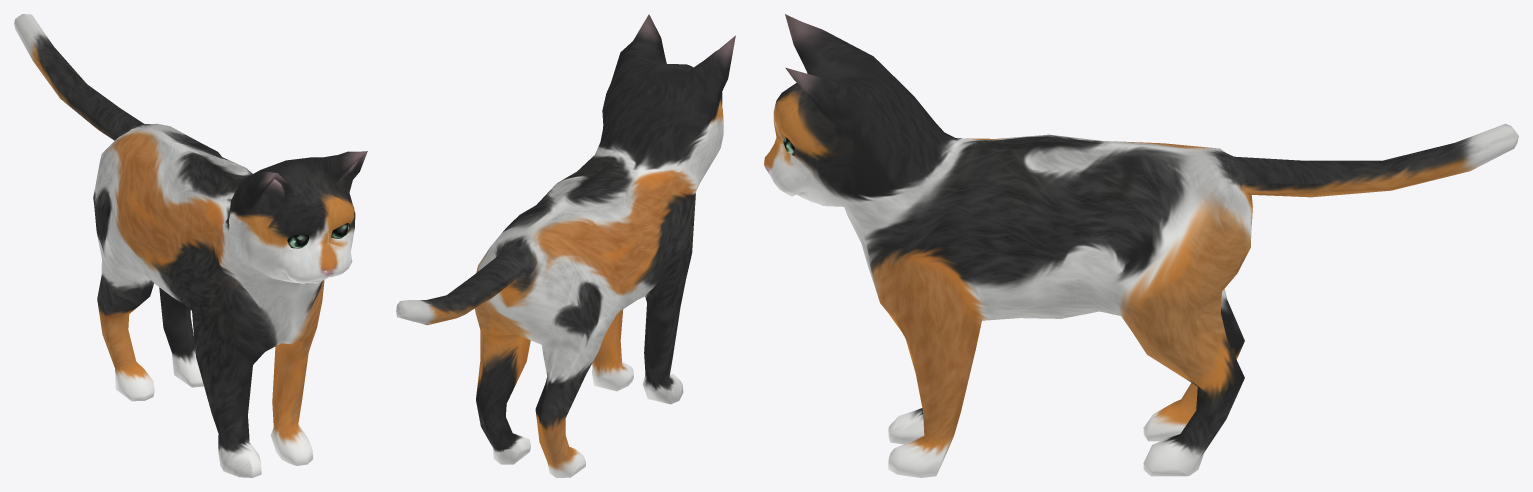
File: Cat-6K-Textured.glb
3 renders of one model, left to right at view 1: azimuth 30°, elevation 25°; view 2: azimuth 150°, elevation 25°; view 3: azimuth 270°, elevation 25°, orthographic. The views are drawn at different scales.
Parts seen in each view (by area): view 1: Cat; view 2: Cat; view 3: Cat.
Boxes of the visible parts, box(x1,y1,x2,y2) form: Cat: box(14, 14, 367, 477); Cat: box(396, 14, 735, 477); Cat: box(764, 14, 1518, 477).
Bounding box in the file's own units: 0.0887 × 0.2337 × 0.3877.
1 material, 1 textured.
